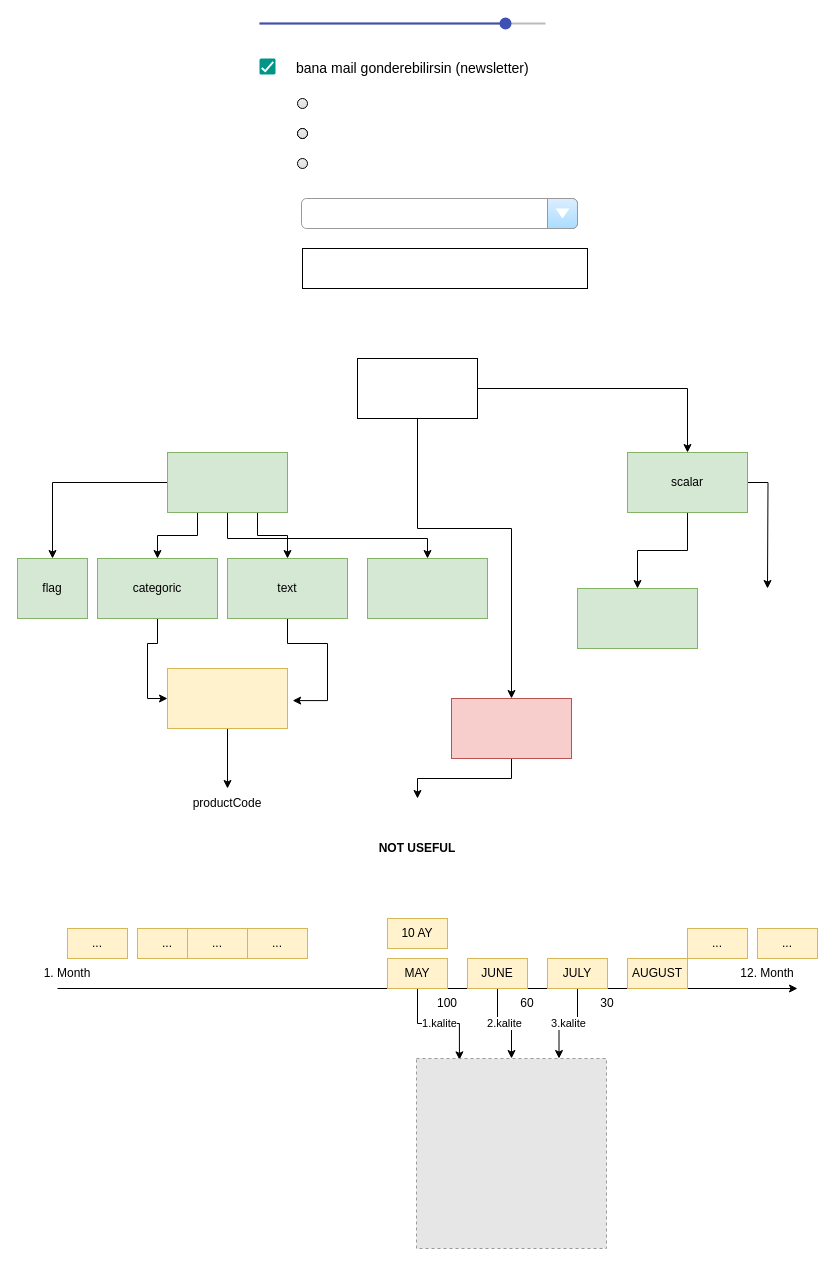
The diagram is 835 pixels wide and 1266 high, and some of its shapes have lost their labels. Grey dashed boxes stand in for pictures. Here are the shapes that lost their labels. From the top down, the centre of each, then its label:
At point (439, 213): "Seher".
At point (445, 268): "adres:".
At point (417, 388): "data types".
At point (227, 482): "nominal".
At point (637, 618): "discrete int".
At point (227, 698): "identifier".
At point (511, 728): "unique".
